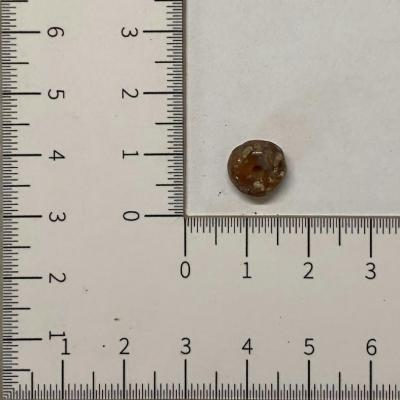archeology: (226, 140, 288, 198)
